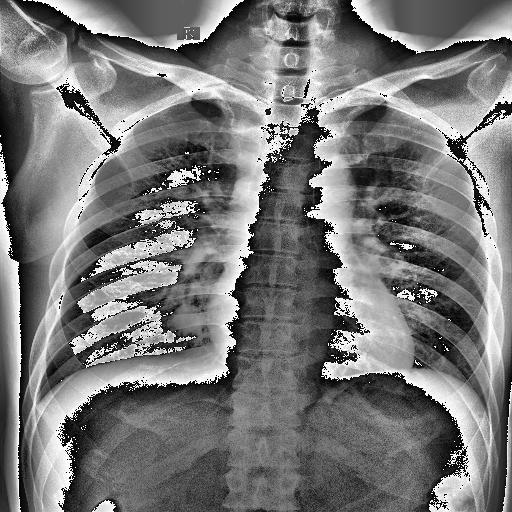0- Aortic enlargement: (282, 150, 356, 214)
8- Nodule-Mass: (166, 304, 204, 338), (165, 304, 205, 336), (168, 304, 202, 334)
